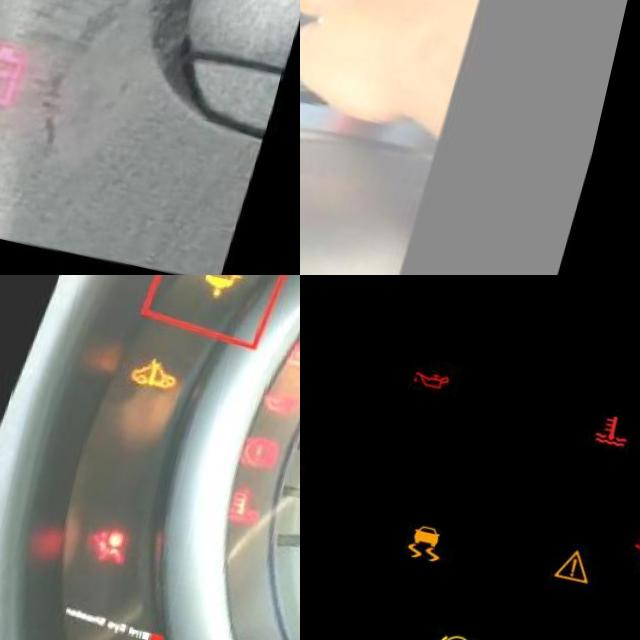Engine cooling system: (243, 464, 290, 513)
High Engine Coolant Temperature: (593, 389, 640, 438)
